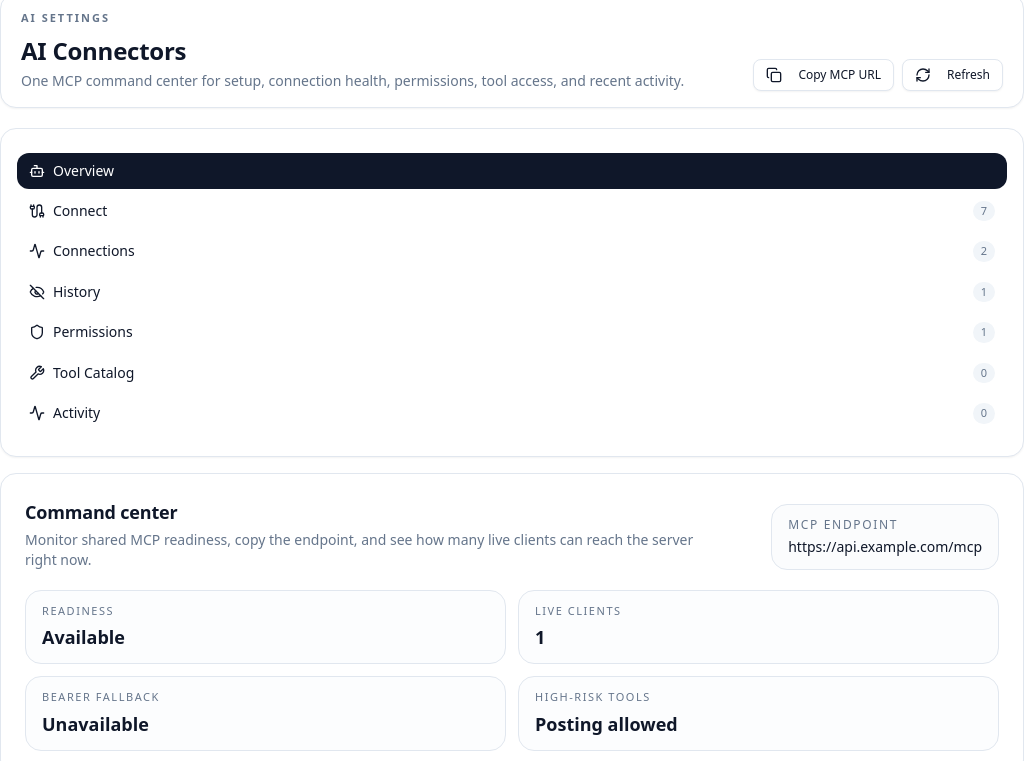
Test: AiConnectorsSettingsClient › keeps active connectors in Connections and exposes revoked rows in the dedicated History tab
Click the button with test id "ai-connectors-tab-connections". click: [94, 251]
box: [17, 233, 1007, 270]
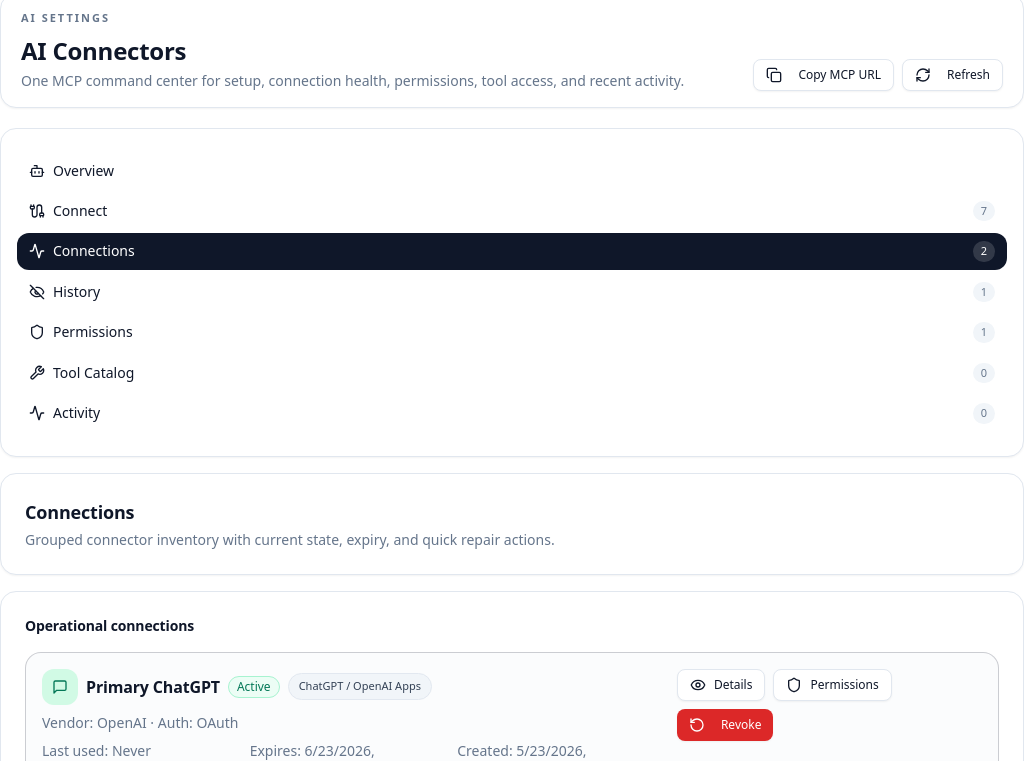
expect the element with test id "ai-connector-" shows "Primary ChatGPT": met, box [86, 676, 220, 698]
Click the button with test id "ai-connectors-tab-history". click: [77, 291]
box: [17, 274, 1007, 310]
(page scrolled)
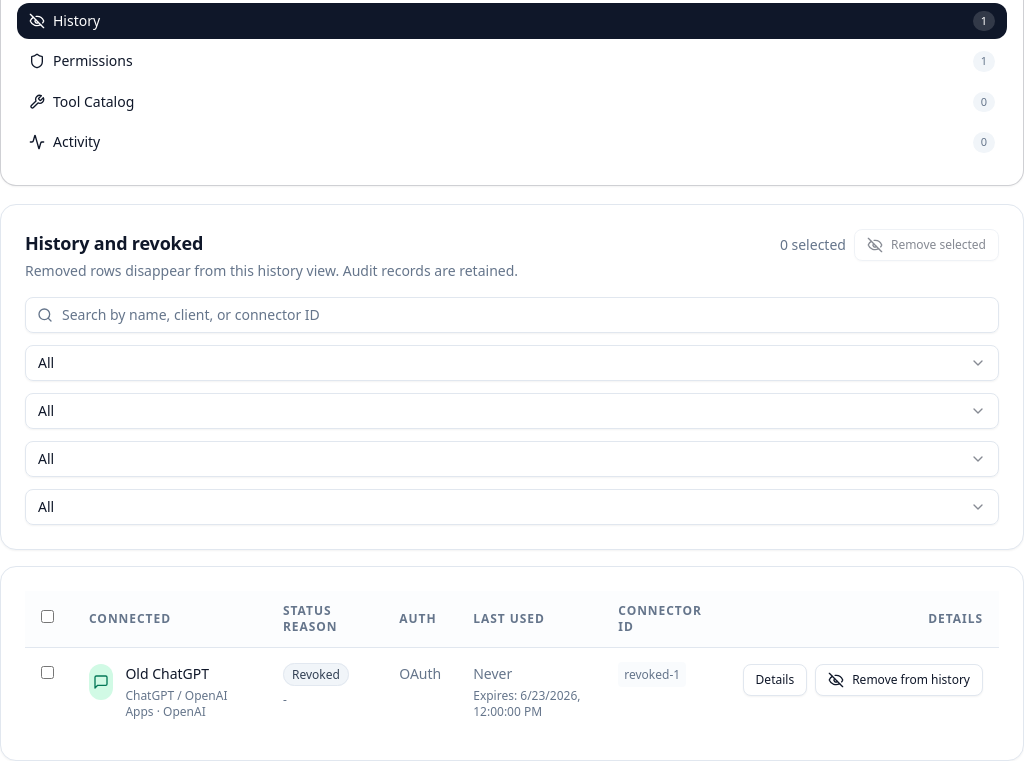
expect the element with test id "ai-connectors-history" shows "Old ChatGPT": met, box [125, 664, 209, 682]
expect the element with test id "ai-connectors-history" shows "Remove from history": met, box [815, 664, 983, 696]
